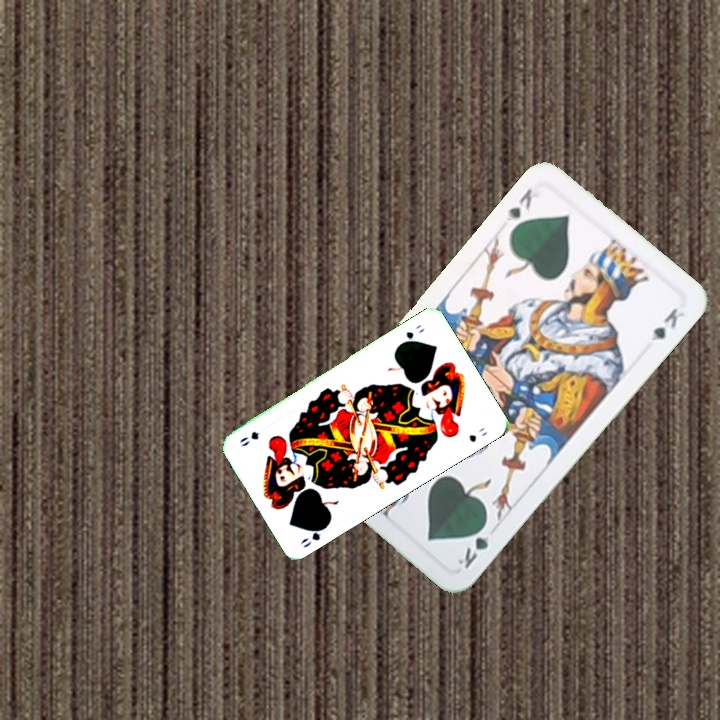GK: (453, 518, 494, 572), (502, 184, 535, 225)
GO: (296, 520, 332, 550), (395, 320, 427, 348)
